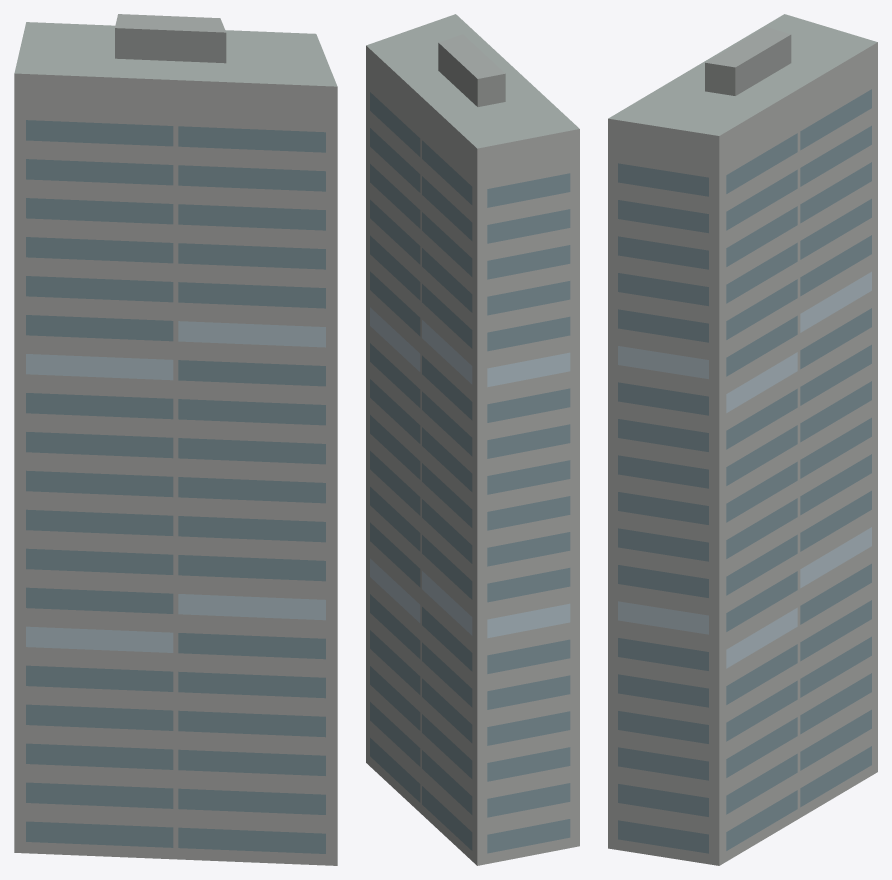
File: fallback-olympic-athletes-village-245.glb
The picture shows the model from 3 angles, left to right: view 1: azimuth 30°, elevation 25°; view 2: azimuth 150°, elevation 25°; view 3: azimuth 270°, elevation 25°; orthographic projection. The views are drawn at different scales.
Visible parts, largest first — view 1: fallback-olympic-athletes-village-245; view 2: fallback-olympic-athletes-village-245; view 3: fallback-olympic-athletes-village-245.
Part boxes in pixels (bbox=[...]): fallback-olympic-athletes-village-245: bbox=[14, 14, 337, 865]; fallback-olympic-athletes-village-245: bbox=[366, 14, 579, 865]; fallback-olympic-athletes-village-245: bbox=[608, 14, 877, 865].
Bounding box in the file's own units: 21.88 × 63.4 × 20.44.
